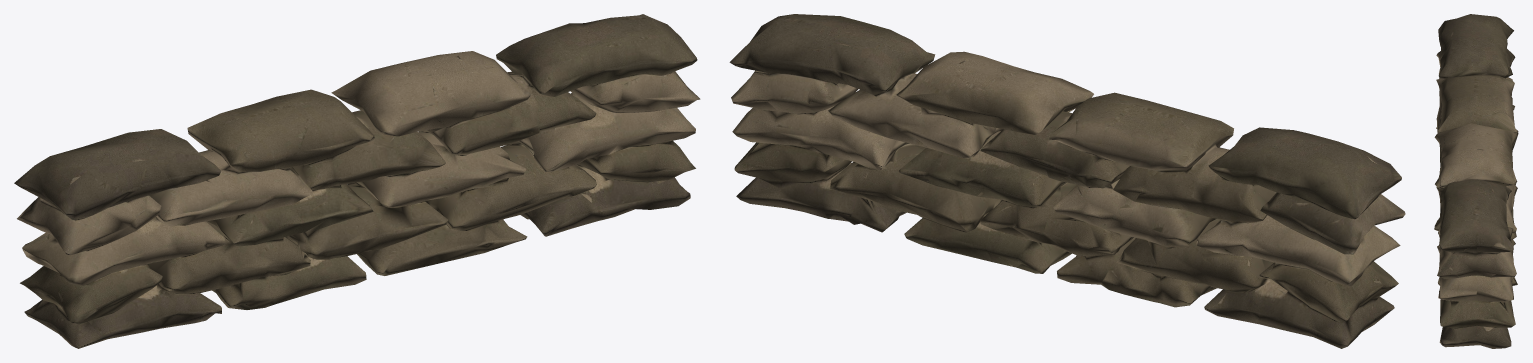
Rendered from sacs.glb.
3 views of the same model, side by side, from view 1: azimuth 30°, elevation 25°; view 2: azimuth 150°, elevation 25°; view 3: azimuth 270°, elevation 25° (orthographic). The views are drawn at different scales.
Bounding box in the file's own units: 1.9 × 0.5172 × 0.3027.
Materials: 1 (1 with a texture image).
